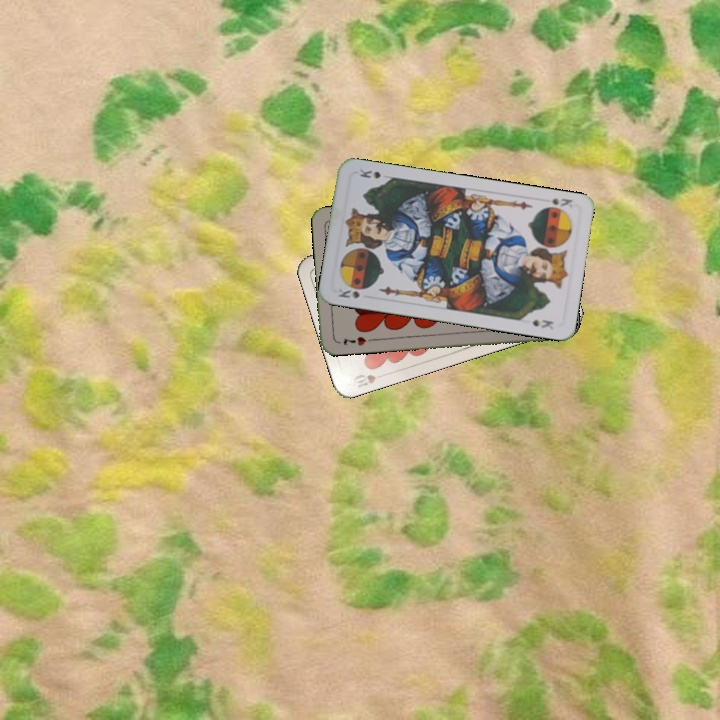H10: (349, 369, 388, 390)
H7: (339, 332, 369, 348)
SK: (333, 284, 362, 301), (547, 194, 575, 210)
